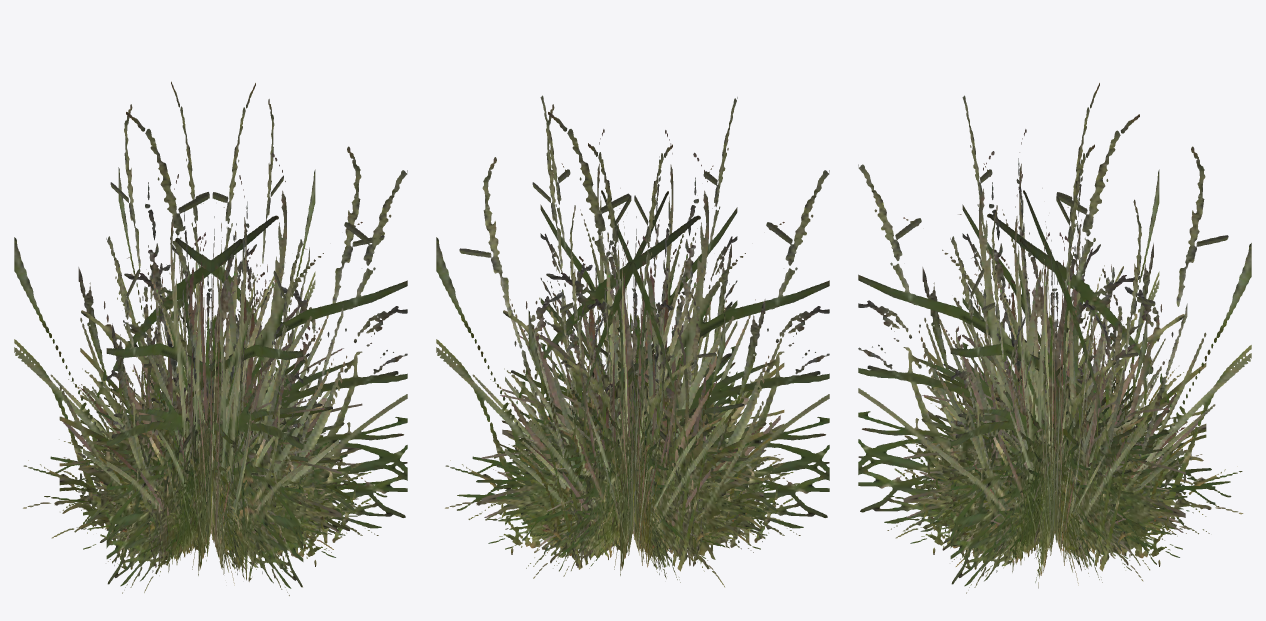
The model's file is hierba_briznas.glb.
The picture shows the model from 3 angles, left to right: view 1: azimuth 30°, elevation 25°; view 2: azimuth 150°, elevation 25°; view 3: azimuth 270°, elevation 25°; orthographic projection.
Parts seen in each view (by area): view 1: briznas_10_alta_arqueada, briznas_4_espiga_a, briznas_6_mixta_seca_a, briznas_2_verde_c, briznas_7_mixta_seca_b, briznas_11_palida, briznas_8_seca, briznas_0_verde_a, briznas_5_espiga_b, briznas_1_verde_b; view 2: briznas_10_alta_arqueada, briznas_4_espiga_a, briznas_6_mixta_seca_a, briznas_2_verde_c, briznas_8_seca, briznas_7_mixta_seca_b, briznas_0_verde_a, briznas_11_palida, briznas_5_espiga_b, briznas_1_verde_b; view 3: briznas_10_alta_arqueada, briznas_4_espiga_a, briznas_6_mixta_seca_a, briznas_2_verde_c, briznas_7_mixta_seca_b, briznas_8_seca, briznas_11_palida, briznas_5_espiga_b, briznas_0_verde_a, briznas_1_verde_b.
Part boxes in pixels (bbox=[...]): briznas_10_alta_arqueada: bbox=[14, 81, 407, 595]; briznas_4_espiga_a: bbox=[44, 99, 387, 592]; briznas_6_mixta_seca_a: bbox=[59, 216, 362, 575]; briznas_2_verde_c: bbox=[50, 310, 371, 581]; briznas_7_mixta_seca_b: bbox=[63, 232, 358, 570]; briznas_11_palida: bbox=[68, 248, 354, 574]; briznas_8_seca: bbox=[72, 248, 349, 585]; briznas_0_verde_a: bbox=[83, 272, 338, 549]; briznas_5_espiga_b: bbox=[78, 235, 343, 578]; briznas_1_verde_b: bbox=[92, 384, 319, 572]; briznas_10_alta_arqueada: bbox=[436, 95, 829, 581]; briznas_4_espiga_a: bbox=[457, 104, 799, 587]; briznas_6_mixta_seca_a: bbox=[481, 216, 784, 575]; briznas_2_verde_c: bbox=[472, 292, 793, 582]; briznas_8_seca: bbox=[494, 248, 771, 569]; briznas_7_mixta_seca_b: bbox=[485, 236, 780, 567]; briznas_0_verde_a: bbox=[505, 272, 760, 549]; briznas_11_palida: bbox=[490, 188, 776, 565]; briznas_5_espiga_b: bbox=[500, 243, 765, 578]; briznas_1_verde_b: bbox=[516, 358, 752, 568]; briznas_10_alta_arqueada: bbox=[858, 83, 1251, 593]; briznas_4_espiga_a: bbox=[888, 146, 1231, 576]; briznas_6_mixta_seca_a: bbox=[903, 232, 1206, 588]; briznas_2_verde_c: bbox=[894, 297, 1215, 582]; briznas_7_mixta_seca_b: bbox=[907, 232, 1202, 572]; briznas_8_seca: bbox=[916, 256, 1193, 585]; briznas_11_palida: bbox=[912, 188, 1197, 565]; briznas_5_espiga_b: bbox=[922, 243, 1187, 568]; briznas_0_verde_a: bbox=[927, 299, 1182, 549]; briznas_1_verde_b: bbox=[931, 356, 1165, 572].
Size of the model in its own units: 0.4238 by 0.6 by 0.4797.
Materials: 1 (1 with a texture image).
